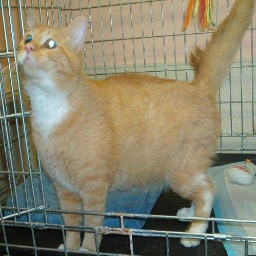cat: (16, 2, 246, 256)
